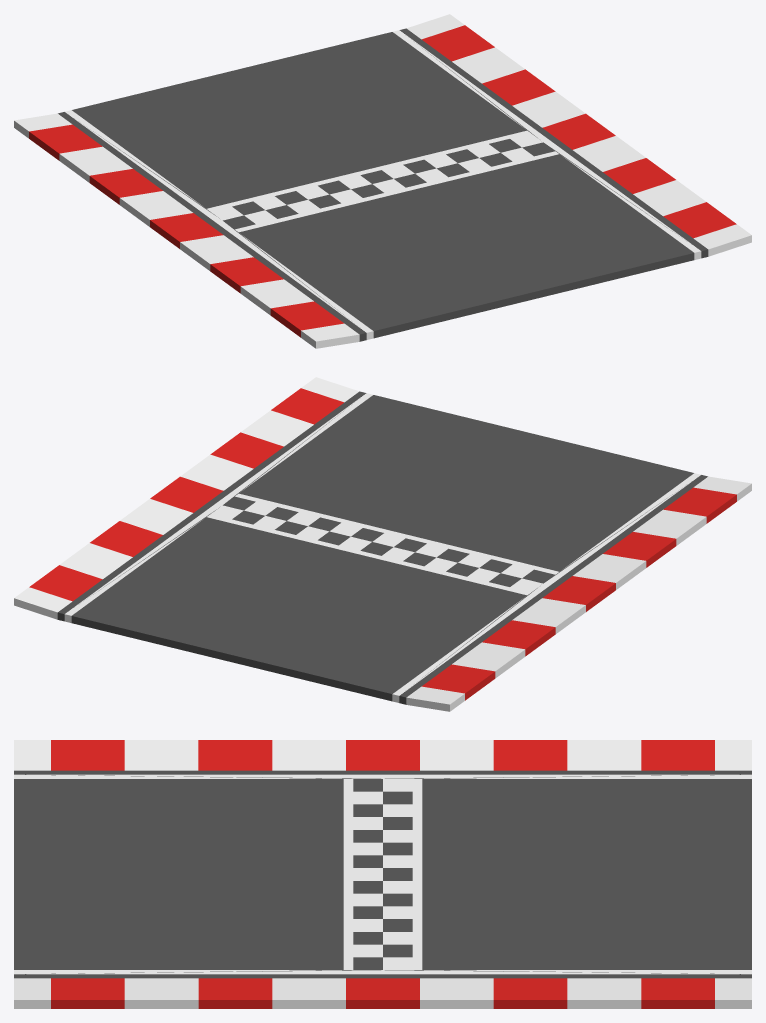
Rendered from Track finish.fbx.
3 views of the same model, one above another, from view 1: azimuth 30°, elevation 25°; view 2: azimuth 150°, elevation 25°; view 3: azimuth 270°, elevation 25° (orthographic). The views are drawn at different scales.
Parts seen in each view (by area): view 1: Track finish; view 2: Track finish; view 3: Track finish.
Part boxes in pixels (x1,y1,x2,y2): Track finish: (14,14,751,348); Track finish: (14,377,751,711); Track finish: (14,740,751,1008).
Size of the model in its own units: 1250 by 30 by 1500.
